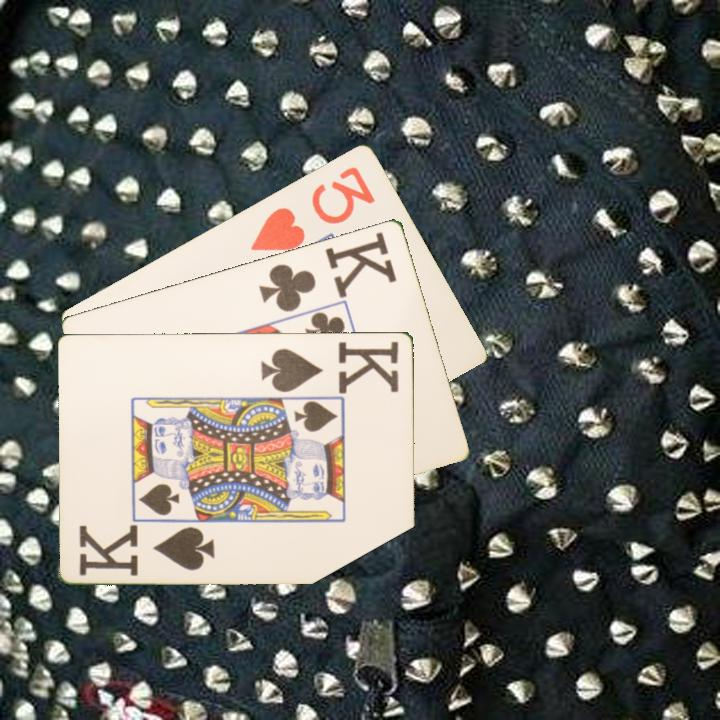3h: (247, 162, 378, 254)
Kc: (255, 227, 400, 315)
Ks: (258, 337, 402, 394), (76, 522, 218, 579)
